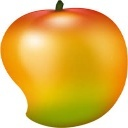mango: (1, 1, 127, 127)
